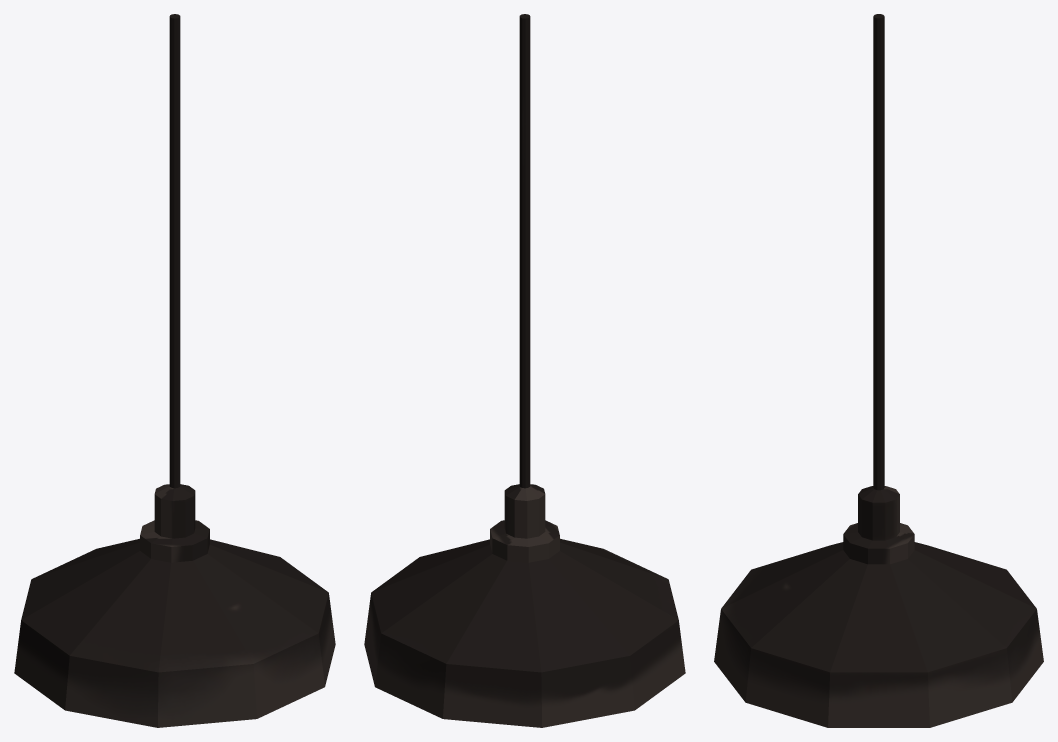
Rendered from LampRoof.fbx.
The picture shows the model from 3 angles, left to right: view 1: azimuth 30°, elevation 25°; view 2: azimuth 150°, elevation 25°; view 3: azimuth 270°, elevation 25°; orthographic projection.
Visible parts, largest first — view 1: Lamp; view 2: Lamp; view 3: Lamp.
Part boxes in pixels (x1=…): Lamp: x1=14, y1=14, x2=335, y2=727; Lamp: x1=364, y1=14, x2=685, y2=727; Lamp: x1=714, y1=14, x2=1043, y2=727.
Bounding box in the file's own units: 307 × 705 × 323.
